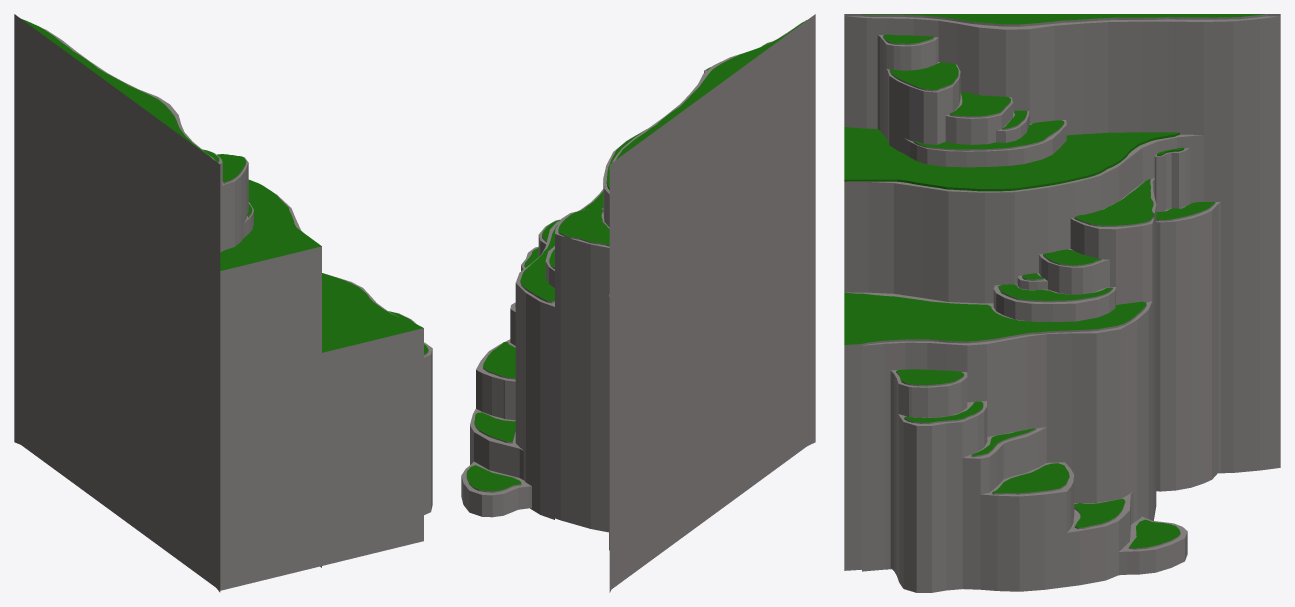
Rendered from STMCorner.fbx.
3 renders of one model, left to right at view 1: azimuth 30°, elevation 25°; view 2: azimuth 150°, elevation 25°; view 3: azimuth 270°, elevation 25°, orthographic. The views are drawn at different scales.
Parts seen in each view (by area): view 1: Plane.017; view 2: Plane.017; view 3: Plane.017.
Part boxes in pixels (bbox=[...]): Plane.017: bbox=[14, 14, 432, 592]; Plane.017: bbox=[461, 14, 815, 592]; Plane.017: bbox=[844, 14, 1280, 592].
Size of the model in its own units: 60.49 by 101 by 87.53.
